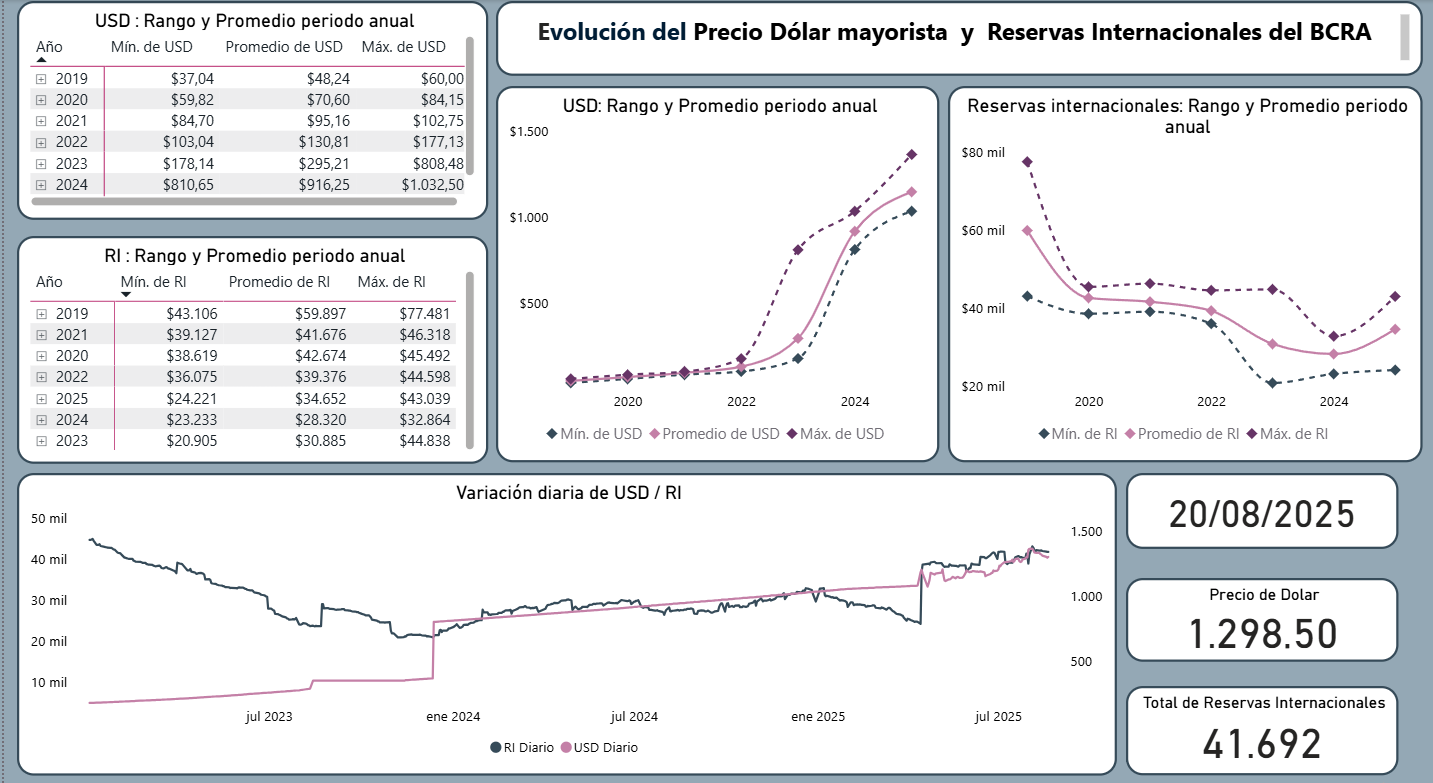

The page's visual inventory and layout, read from the dashboard file:
{"tool":"powerbi","page":{"name":"Reporte USD/RI","canvas":[1280,720],"ordinal":1},"visuals":[{"type":"pivotTable","title":"USD : Rango y Promedio periodo  anual  \n","fields":{"Rows":["PrincipalesVariables.Fecha.Variación.Jerarquía de fechas.Año","PrincipalesVariables.Fecha.Variación.Jerarquía de fechas.Trimestre"],"Values":["Min(PrincipalesVariables.Dólar  mayorista)","Avg(PrincipalesVariables.Dólar  mayorista)","Max(PrincipalesVariables.Dólar  mayorista)"]},"box":[11.8,0.9,421.8,196.4],"z":0},{"type":"pivotTable","title":"RI  : Rango y Promedio periodo  anual  \n","fields":{"Rows":["PrincipalesVariables.Fecha.Variación.Jerarquía de fechas.Año","PrincipalesVariables.Fecha.Variación.Jerarquía de fechas.Trimestre"],"Values":["Min(PrincipalesVariables.Reservas internacionales)","Avg(PrincipalesVariables.Reservas internacionales)","Max(PrincipalesVariables.Reservas internacionales)"]},"box":[11.8,210.9,421.8,203.6],"z":1000},{"type":"lineChart","title":"USD: Rango y Promedio periodo  anual  ","fields":{"Category":["PrincipalesVariables.Fecha.Variación.Jerarquía de fechas.Año","PrincipalesVariables.Fecha.Variación.Jerarquía de fechas.Trimestre","PrincipalesVariables.Fecha.Variación.Jerarquía de fechas.Mes","PrincipalesVariables.Fecha.Variación.Jerarquía de fechas.Día"],"Y":["Min(PrincipalesVariables.Dólar  mayorista)","Avg(PrincipalesVariables.Dólar  mayorista)","Max(PrincipalesVariables.Dólar  mayorista)"]},"box":[440.9,77.3,397.3,337.3],"z":2000},{"type":"lineChart","title":"Reservas internacionales: Rango y Promedio periodo anual    \n","fields":{"Category":["PrincipalesVariables.Fecha.Variación.Jerarquía de fechas.Año","PrincipalesVariables.Fecha.Variación.Jerarquía de fechas.Trimestre","PrincipalesVariables.Fecha.Variación.Jerarquía de fechas.Mes","PrincipalesVariables.Fecha.Variación.Jerarquía de fechas.Día"],"Y":["Min(PrincipalesVariables.Reservas internacionales)","Avg(PrincipalesVariables.Reservas internacionales)","Max(PrincipalesVariables.Reservas internacionales)"]},"box":[845.5,77.3,425.5,337.3],"z":3000},{"type":"lineChart","title":"Variación  diaria de USD / RI\n","fields":{"Category":["TablaUSDRI.Fecha"],"Y2":["TablaUSDRI.USD Diario"],"Y":["TablaUSDRI.RI Diario"]},"box":[11.8,423.6,984.5,270.9],"z":4000},{"type":"card","title":"Precio de  Dolar ","fields":{"Values":["TablaUSDRI.Ultimo dia: USD Último Día"]},"box":[1004.5,517.3,243.6,75.5],"z":5000},{"type":"card","title":"Total de Reservas Internacionales","fields":{"Values":["TablaUSDRI.RI  Último Día"]},"box":[1004.5,614.5,243.6,80],"z":6000},{"type":"card","fields":{"Values":["TablaUSDRI.FechaUSDRI Último Día"]},"box":[1004.5,423.6,243.6,68.2],"z":7000},{"type":"textbox","box":[440.9,0.9,830,67.3],"z":8000}]}

Visuals, with their boxes in screenshot pixels (x1, y1, x2, y2), scaled from the page's 1280x720 canvas onto the 1433x783 screenshot:
"USD : Rango y Promedio periodo  anual  
" pivotTable: rect(13, 1, 485, 215)
"RI  : Rango y Promedio periodo  anual  
" pivotTable: rect(13, 229, 485, 451)
"USD: Rango y Promedio periodo  anual  " lineChart: rect(494, 84, 938, 451)
"Reservas internacionales: Rango y Promedio periodo anual    
" lineChart: rect(947, 84, 1423, 451)
"Variación  diaria de USD / RI
" lineChart: rect(13, 461, 1115, 755)
"Precio de  Dolar " card: rect(1125, 563, 1397, 645)
"Total de Reservas Internacionales" card: rect(1125, 668, 1397, 755)
card - TablaUSDRI.FechaUSDRI Último Día: rect(1125, 461, 1397, 535)
textbox: rect(494, 1, 1423, 74)
